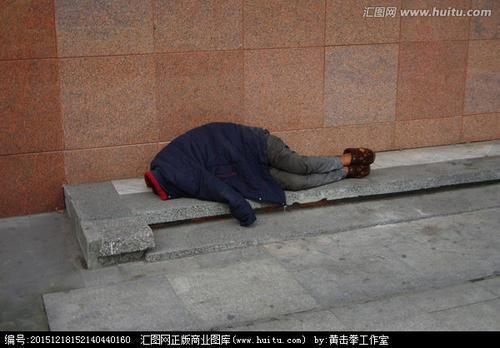Fall-Detected: (136, 113, 376, 227)
